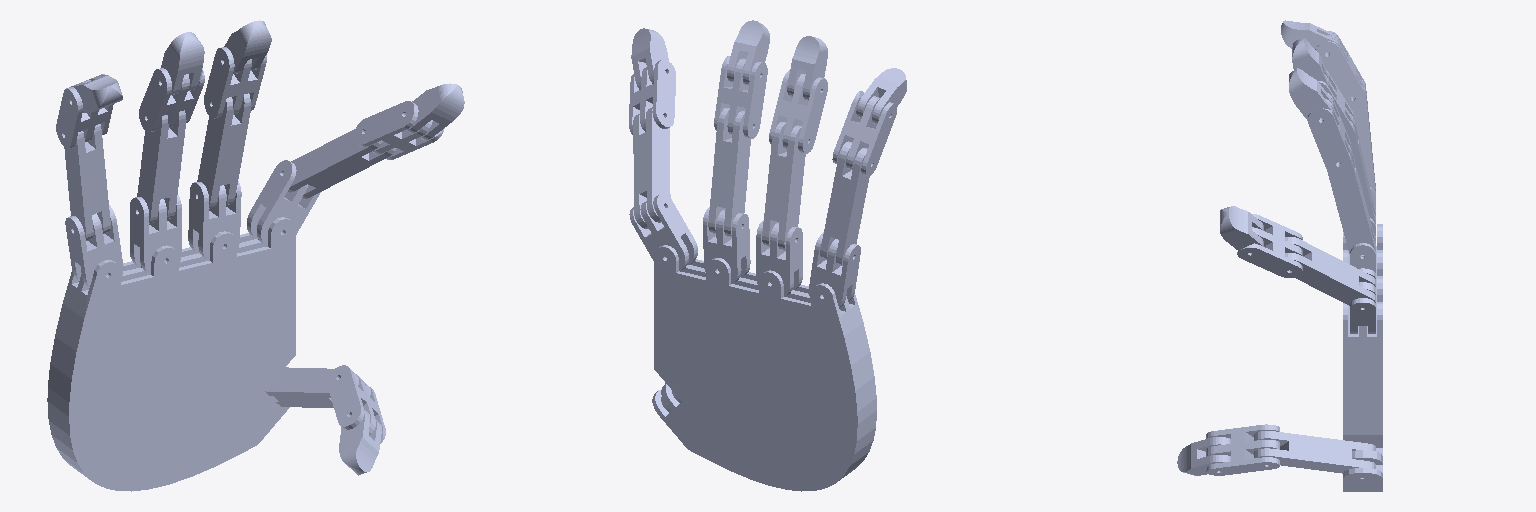
--- What the picture shows (computed from the rendered views, not written in the file) ---
The picture shows the robot from 3 angles, left to right: view 1: azimuth 30°, elevation 25°; view 2: azimuth 150°, elevation 25°; view 3: azimuth 270°, elevation 25°; orthographic projection.
Robot: Assemblage1 — 20 links, 19 joints (19 revolute); root link body; default pose: every joint at zero.
Visible links, largest first — view 1: body, BM, BR, BP, BI, MoI, MI, MoM, MoR, MM, MoP, MR (+8 smaller); view 2: body, BM, BR, BP, BI, MP, MM, MR, MoI, MI, MoM, MoR (+5 smaller); view 3: body, BT, BI, MT, BM, MI, MM, MP, EI, EM, ET, MoI (+6 smaller).
Link boxes in pixels (x1,y1,x2,y2): body: (47, 216, 295, 491); BM: (197, 93, 251, 208); BR: (137, 110, 186, 223); BP: (64, 124, 110, 240); BI: (287, 129, 396, 199); MoI: (247, 160, 320, 246); MI: (354, 101, 444, 159); MoM: (188, 180, 241, 260); MoR: (130, 195, 181, 274); MM: (204, 47, 266, 118); MoP: (65, 205, 123, 287); MR: (139, 68, 204, 131); body: (652, 245, 876, 491); BM: (708, 108, 750, 236); BR: (762, 122, 805, 250); BP: (820, 141, 869, 265); BI: (633, 107, 670, 228); MP: (832, 91, 896, 176); MM: (714, 56, 767, 138); MR: (769, 70, 827, 153); MoI: (629, 194, 697, 271); MI: (629, 59, 675, 134); MoM: (703, 207, 750, 283); MoR: (756, 220, 802, 296); body: (1343, 224, 1382, 491); BT: (1254, 431, 1375, 473); BI: (1285, 237, 1375, 305); MT: (1206, 424, 1279, 475); BM: (1327, 145, 1375, 256); MI: (1237, 214, 1302, 277); MM: (1308, 93, 1351, 175); MP: (1315, 31, 1365, 110); EI: (1220, 206, 1263, 250); EM: (1289, 68, 1333, 120); ET: (1177, 437, 1230, 475); MoI: (1350, 268, 1375, 333).
Bounding box of the posed robot: 0.1364 × 0.0782 × 0.1797 m (x, y, z).
Meshes: 20 distinct files referenced, 20 mesh visuals loaded (20 binary STL).

The robot description file, URDF, robot "Assemblage1":
<?xml version="1.0" encoding="utf-8"?>
<!-- This URDF was automatically created by SolidWorks to URDF Exporter! Originally created by Stephen Brawner ([email redacted]) 
     Commit Version: 1.6.0-4-g7f85cfe  Build Version: 1.6.7995.38578
     For more information, please see http://wiki.ros.org/sw_urdf_exporter -->
<robot
  name="Assemblage1">
  <link
    name="body">
    <inertial>
      <origin
        xyz="-0.0317780024555155 -0.0416290302039092 -4.84322725841584E-09"
        rpy="0 0 0" />
      <mass
        value="0.099913253768249" />
      <inertia
        ixx="5.26894904194742E-05"
        ixy="-4.91617233346469E-06"
        ixz="-2.12615653369078E-11"
        iyy="6.1865203895909E-05"
        iyz="-3.44716620593123E-11"
        izz="0.000110769106983496" />
    </inertial>
    <visual>
      <origin
        xyz="0 0 0"
        rpy="0 0 0" />
      <geometry>
        <mesh
          filename="package://Assemblage1/meshes/body.STL" />
      </geometry>
      <material
        name="">
        <color
          rgba="0.792156862745098 0.819607843137255 0.933333333333333 1" />
      </material>
    </visual>
    <collision>
      <origin
        xyz="0 0 0"
        rpy="0 0 0" />
      <geometry>
        <mesh
          filename="package://Assemblage1/meshes/body.STL" />
      </geometry>
    </collision>
  </link>
  <link
    name="MoP">
    <inertial>
      <origin
        xyz="-0.00293220937857835 0.00632546796877385 -1.45520032557199E-17"
        rpy="0 0 0" />
      <mass
        value="0.00255919241298572" />
      <inertia
        ixx="1.46637612238249E-07"
        ixy="3.30027530868883E-08"
        ixz="4.36834348772607E-24"
        iyy="9.07415094954518E-08"
        iyz="-2.29638710034628E-23"
        izz="1.86963684362792E-07" />
    </inertial>
    <visual>
      <origin
        xyz="0 0 0"
        rpy="0 0 0" />
      <geometry>
        <mesh
          filename="package://Assemblage1/meshes/MoP.STL" />
      </geometry>
      <material
        name="">
        <color
          rgba="0.792156862745098 0.819607843137255 0.933333333333333 1" />
      </material>
    </visual>
    <collision>
      <origin
        xyz="0 0 0"
        rpy="0 0 0" />
      <geometry>
        <mesh
          filename="package://Assemblage1/meshes/MoP.STL" />
      </geometry>
    </collision>
  </link>
  <joint
    name="P0"
    type="revolute">
    <origin
      xyz="-0.061489 0 0.0010762"
      rpy="1.5708 0.28599 0" />
    <parent
      link="body" />
    <child
      link="MoP" />
    <axis
      xyz="0 0 1" />
    <limit
      lower="0"
      upper="0"
      effort="0"
      velocity="0" />
  </joint>
  <link
    name="BP">
    <inertial>
      <origin
        xyz="-0.0084113336029166 0.0181452326251401 -3.42607886505419E-17"
        rpy="0 0 0" />
      <mass
        value="0.0038735397861954" />
      <inertia
        ixx="5.28071050490407E-07"
        ixy="2.12422682141576E-07"
        ixz="-2.34092113352507E-22"
        iyy="1.68295002879297E-07"
        iyz="1.83634095986772E-22"
        izz="6.33161083366812E-07" />
    </inertial>
    <visual>
      <origin
        xyz="0 0 0"
        rpy="0 0 0" />
      <geometry>
        <mesh
          filename="package://Assemblage1/meshes/BP.STL" />
      </geometry>
      <material
        name="">
        <color
          rgba="0.792156862745098 0.819607843137255 0.933333333333333 1" />
      </material>
    </visual>
    <collision>
      <origin
        xyz="0 0 0"
        rpy="0 0 0" />
      <geometry>
        <mesh
          filename="package://Assemblage1/meshes/BP.STL" />
      </geometry>
    </collision>
  </link>
  <joint
    name="P1"
    type="revolute">
    <origin
      xyz="-0.0073599 0.015877 0"
      rpy="0.084794 0.03924 0.0016649" />
    <parent
      link="MoP" />
    <child
      link="BP" />
    <axis
      xyz="0.90726 0.42057 0" />
    <limit
      lower="0"
      upper="0"
      effort="0"
      velocity="0" />
  </joint>
  <link
    name="MP">
    <inertial>
      <origin
        xyz="-0.00420380391442909 0.00897896333031706 3.99820593299793E-11"
        rpy="0 0 0" />
      <mass
        value="0.00237109569304739" />
      <inertia
        ixx="1.28381625801957E-07"
        ixy="2.73818544101998E-08"
        ixz="1.47144251627205E-16"
        iyy="8.5271339251763E-08"
        iyz="-2.69810152705628E-16"
        izz="1.75566459338251E-07" />
    </inertial>
    <visual>
      <origin
        xyz="0 0 0"
        rpy="0 0 0" />
      <geometry>
        <mesh
          filename="package://Assemblage1/meshes/MP.STL" />
      </geometry>
      <material
        name="">
        <color
          rgba="0.792156862745098 0.819607843137255 0.933333333333333 1" />
      </material>
    </visual>
    <collision>
      <origin
        xyz="0 0 0"
        rpy="0 0 0" />
      <geometry>
        <mesh
          filename="package://Assemblage1/meshes/MP.STL" />
      </geometry>
    </collision>
  </link>
  <joint
    name="P2"
    type="revolute">
    <origin
      xyz="-0.016823 0.03629 0"
      rpy="0.37611 0.16865 0.032168" />
    <parent
      link="BP" />
    <child
      link="MP" />
    <axis
      xyz="0.90726 0.42057 0" />
    <limit
      lower="0"
      upper="0"
      effort="0"
      velocity="0" />
  </joint>
  <link
    name="EP">
    <inertial>
      <origin
        xyz="-0.00331864433873978 0.00715916547211324 0.000107037810905417"
        rpy="0 0 0" />
      <mass
        value="0.00158516331078646" />
      <inertia
        ixx="6.32795292840303E-08"
        ixy="1.69330066509074E-08"
        ixz="3.68775388961158E-10"
        iyy="3.45969358532547E-08"
        iyz="-7.94913043760575E-10"
        izz="7.6046113606227E-08" />
    </inertial>
    <visual>
      <origin
        xyz="0 0 0"
        rpy="0 0 0" />
      <geometry>
        <mesh
          filename="package://Assemblage1/meshes/EP.STL" />
      </geometry>
      <material
        name="">
        <color
          rgba="0.792156862745098 0.819607843137255 0.933333333333333 1" />
      </material>
    </visual>
    <collision>
      <origin
        xyz="0 0 0"
        rpy="0 0 0" />
      <geometry>
        <mesh
          filename="package://Assemblage1/meshes/EP.STL" />
      </geometry>
    </collision>
  </link>
  <joint
    name="P3"
    type="revolute">
    <origin
      xyz="-0.0084113 0.018145 0"
      rpy="0.58262 0.24973 0.075235" />
    <parent
      link="MP" />
    <child
      link="EP" />
    <axis
      xyz="0.90726 0.42057 0" />
    <limit
      lower="0"
      upper="0"
      effort="0"
      velocity="0" />
  </joint>
  <link
    name="MoR">
    <inertial>
      <origin
        xyz="-0.00293220937857833 0.00632546796877384 4.91378912611739E-17"
        rpy="0 0 0" />
      <mass
        value="0.00255919241298572" />
      <inertia
        ixx="1.46637612238249E-07"
        ixy="3.30027530868887E-08"
        ixz="1.99080074695055E-23"
        iyy="9.0741509495452E-08"
        iyz="1.46054870935857E-23"
        izz="1.86963684362793E-07" />
    </inertial>
    <visual>
      <origin
        xyz="0 0 0"
        rpy="0 0 0" />
      <geometry>
        <mesh
          filename="package://Assemblage1/meshes/MoR.STL" />
      </geometry>
      <material
        name="">
        <color
          rgba="0.792156862745098 0.819607843137255 0.933333333333333 1" />
      </material>
    </visual>
    <collision>
      <origin
        xyz="0 0 0"
        rpy="0 0 0" />
      <geometry>
        <mesh
          filename="package://Assemblage1/meshes/MoR.STL" />
      </geometry>
    </collision>
  </link>
  <joint
    name="R0"
    type="revolute">
    <origin
      xyz="-0.038156 0 0.0010762"
      rpy="1.5708 0.43367 0" />
    <parent
      link="body" />
    <child
      link="MoR" />
    <axis
      xyz="0 0 1" />
    <limit
      lower="0"
      upper="0"
      effort="0"
      velocity="0" />
  </joint>
  <link
    name="BR">
    <inertial>
      <origin
        xyz="-0.00841133360291669 0.01814523262514 -1.05818132034585E-16"
        rpy="0 0 0" />
      <mass
        value="0.0038735397861954" />
      <inertia
        ixx="5.28071050490406E-07"
        ixy="2.12422682141575E-07"
        ixz="1.19941188820189E-22"
        iyy="1.68295002879296E-07"
        iyz="5.93915679813074E-22"
        izz="6.33161083366809E-07" />
    </inertial>
    <visual>
      <origin
        xyz="0 0 0"
        rpy="0 0 0" />
      <geometry>
        <mesh
          filename="package://Assemblage1/meshes/BR.STL" />
      </geometry>
      <material
        name="">
        <color
          rgba="0.792156862745098 0.819607843137255 0.933333333333333 1" />
      </material>
    </visual>
    <collision>
      <origin
        xyz="0 0 0"
        rpy="0 0 0" />
      <geometry>
        <mesh
          filename="package://Assemblage1/meshes/BR.STL" />
      </geometry>
    </collision>
  </link>
  <joint
    name="R1"
    type="revolute">
    <origin
      xyz="-0.0073599 0.015877 0"
      rpy="0.18212 0.083759 0.0076525" />
    <parent
      link="MoR" />
    <child
      link="BR" />
    <axis
      xyz="0.90726 0.42057 0" />
    <limit
      lower="0"
      upper="0"
      effort="0"
      velocity="0" />
  </joint>
  <link
    name="MR">
    <inertial>
      <origin
        xyz="-0.00511106554568592 0.00855839665017134 3.9982080146661E-11"
        rpy="0 0 0" />
      <mass
        value="0.00237109569304739" />
      <inertia
        ixx="1.28381625801953E-07"
        ixy="2.73818544102003E-08"
        ixz="1.47144871185484E-16"
        iyy="8.5271339251762E-08"
        iyz="-2.69810043517787E-16"
        izz="1.75566459338247E-07" />
    </inertial>
    <visual>
      <origin
        xyz="0 0 0"
        rpy="0 0 0" />
      <geometry>
        <mesh
          filename="package://Assemblage1/meshes/MR.STL" />
      </geometry>
      <material
        name="">
        <color
          rgba="0.792156862745098 0.819607843137255 0.933333333333333 1" />
      </material>
    </visual>
    <collision>
      <origin
        xyz="0 0 0"
        rpy="0 0 0" />
      <geometry>
        <mesh
          filename="package://Assemblage1/meshes/MR.STL" />
      </geometry>
    </collision>
  </link>
  <joint
    name="R2"
    type="revolute">
    <origin
      xyz="-0.016823 0.03629 0"
      rpy="0.28269 0.12859 0.018322" />
    <parent
      link="BR" />
    <child
      link="MR" />
    <axis
      xyz="0.90726 0.42057 0" />
    <limit
      lower="0"
      upper="0"
      effort="0"
      velocity="0" />
  </joint>
  <link
    name="ER">
    <inertial>
      <origin
        xyz="-0.00422591555438051 0.00673860644655273 0.000107034349140913"
        rpy="0 0 0" />
      <mass
        value="0.00158516503814541" />
      <inertia
        ixx="6.32794906351526E-08"
        ixy="1.69331692425388E-08"
        ixz="3.68762244765979E-10"
        iyy="3.45969451339538E-08"
        iyz="-7.94871995175647E-10"
        izz="7.60462532418065E-08" />
    </inertial>
    <visual>
      <origin
        xyz="0 0 0"
        rpy="0 0 0" />
      <geometry>
        <mesh
          filename="package://Assemblage1/meshes/ER.STL" />
      </geometry>
      <material
        name="">
        <color
          rgba="0.792156862745098 0.819607843137255 0.933333333333333 1" />
      </material>
    </visual>
    <collision>
      <origin
        xyz="0 0 0"
        rpy="0 0 0" />
      <geometry>
        <mesh
          filename="package://Assemblage1/meshes/ER.STL" />
      </geometry>
    </collision>
  </link>
  <joint
    name="R3"
    type="revolute">
    <origin
      xyz="-0.0084113 0.018145 0"
      rpy="-0.13162 -0.060764 0.004006" />
    <parent
      link="MR" />
    <child
      link="ER" />
    <axis
      xyz="0.90726 0.42057 0" />
    <limit
      lower="0"
      upper="0"
      effort="0"
      velocity="0" />
  </joint>
  <link
    name="MoM">
    <inertial>
      <origin
        xyz="-0.00293220937857834 0.00632546796877383 -1.45472119467669E-17"
        rpy="0 0 0" />
      <mass
        value="0.00255919241298571" />
      <inertia
        ixx="1.46637612238249E-07"
        ixy="3.30027530868881E-08"
        ixz="1.07828210437865E-23"
        iyy="9.07415094954515E-08"
        iyz="4.18519976445112E-23"
        izz="1.86963684362793E-07" />
    </inertial>
    <visual>
      <origin
        xyz="0 0 0"
        rpy="0 0 0" />
      <geometry>
        <mesh
          filename="package://Assemblage1/meshes/MoM.STL" />
      </geometry>
      <material
        name="">
        <color
          rgba="0.792156862745098 0.819607843137255 0.933333333333333 1" />
      </material>
    </visual>
    <collision>
      <origin
        xyz="0 0 0"
        rpy="0 0 0" />
      <geometry>
        <mesh
          filename="package://Assemblage1/meshes/MoM.STL" />
      </geometry>
    </collision>
  </link>
  <joint
    name="M0"
    type="revolute">
    <origin
      xyz="-0.014823 0 0.0010762"
      rpy="1.5708 0.46822 0" />
    <parent
      link="body" />
    <child
      link="MoM" />
    <axis
      xyz="0 0 1" />
    <limit
      lower="0"
      upper="0"
      effort="0"
      velocity="0" />
  </joint>
  <link
    name="BM">
    <inertial>
      <origin
        xyz="-0.00841133360291656 0.0181452326251401 -3.03576608295941E-17"
        rpy="0 0 0" />
      <mass
        value="0.00387353978619539" />
      <inertia
        ixx="5.28071050490406E-07"
        ixy="2.12422682141575E-07"
        ixz="-5.24018918052343E-22"
        iyy="1.68295002879296E-07"
        iyz="2.61389073566757E-22"
        izz="6.33161083366809E-07" />
    </inertial>
    <visual>
      <origin
        xyz="0 0 0"
        rpy="0 0 0" />
      <geometry>
        <mesh
          filename="package://Assemblage1/meshes/BM.STL" />
      </geometry>
      <material
        name="">
        <color
          rgba="0.792156862745098 0.819607843137255 0.933333333333333 1" />
      </material>
    </visual>
    <collision>
      <origin
        xyz="0 0 0"
        rpy="0 0 0" />
      <geometry>
        <mesh
          filename="package://Assemblage1/meshes/BM.STL" />
      </geometry>
    </collision>
  </link>
  <joint
    name="M1"
    type="revolute">
    <origin
      xyz="-0.0073599 0.015877 0"
      rpy="0.21346 0.097886 0.010495" />
    <parent
      link="MoM" />
    <child
      link="BM" />
    <axis
      xyz="0.90726 0.42057 0" />
    <limit
      lower="0"
      upper="0"
      effort="0"
      velocity="0" />
  </joint>
  <link
    name="MM">
    <inertial>
      <origin
        xyz="-0.00511106554568629 0.00855839665017128 3.99823091301599E-11"
        rpy="0 0 0" />
      <mass
        value="0.0023710956930474" />
      <inertia
        ixx="1.28381625801959E-07"
        ixy="2.73818544102015E-08"
        ixz="1.47144135821919E-16"
        iyy="8.52713392517634E-08"
        iyz="-2.69809805289771E-16"
        izz="1.75566459338253E-07" />
    </inertial>
    <visual>
      <origin
        xyz="0 0 0"
        rpy="0 0 0" />
      <geometry>
        <mesh
          filename="package://Assemblage1/meshes/MM.STL" />
      </geometry>
      <material
        name="">
        <color
          rgba="0.792156862745098 0.819607843137255 0.933333333333333 1" />
      </material>
    </visual>
    <collision>
      <origin
        xyz="0 0 0"
        rpy="0 0 0" />
      <geometry>
        <mesh
          filename="package://Assemblage1/meshes/MM.STL" />
      </geometry>
    </collision>
  </link>
  <joint
    name="M2"
    type="revolute">
    <origin
      xyz="-0.016823 0.03629 0"
      rpy="0.095455 0.044153 0.0021092" />
    <parent
      link="BM" />
    <child
      link="MM" />
    <axis
      xyz="0.90726 0.42057 0" />
    <limit
      lower="0"
      upper="0"
      effort="0"
      velocity="0" />
  </joint>
  <link
    name="EM">
    <inertial>
      <origin
        xyz="-0.00422591227853702 0.00673860339802749 0.000107039186693112"
        rpy="0 0 0" />
      <mass
        value="0.0015851647154223" />
      <inertia
        ixx="6.32794759861742E-08"
        ixy="1.69330882930686E-08"
        ixz="3.68776959871066E-10"
        iyy="3.45969592327741E-08"
        iyz="-7.94930068509272E-10"
        izz="7.60461994645335E-08" />
    </inertial>
    <visual>
      <origin
        xyz="0 0 0"
        rpy="0 0 0" />
      <geometry>
        <mesh
          filename="package://Assemblage1/meshes/EM.STL" />
      </geometry>
      <material
        name="">
        <color
          rgba="0.792156862745098 0.819607843137255 0.933333333333333 1" />
      </material>
    </visual>
    <collision>
      <origin
        xyz="0 0 0"
        rpy="0 0 0" />
      <geometry>
        <mesh
          filename="package://Assemblage1/meshes/EM.STL" />
      </geometry>
    </collision>
  </link>
  <joint
    name="M3"
    type="revolute">
    <origin
      xyz="-0.0084113 0.018145 0"
      rpy="0.24136 0.11035 0.013395" />
    <parent
      link="MM" />
    <child
      link="EM" />
    <axis
      xyz="0.90726 0.42057 0" />
    <limit
      lower="0"
      upper="0"
      effort="0"
      velocity="0" />
  </joint>
  <link
    name="MoI">
    <inertial>
      <origin
        xyz="-0.00460821527933892 0.00557234453237535 1.31025774198672E-16"
        rpy="0 0 0" />
      <mass
        value="0.00255919241298572" />
      <inertia
        ixx="1.46637612238251E-07"
        ixy="3.30027530868886E-08"
        ixz="5.61711877417609E-23"
        iyy="9.07415094954518E-08"
        iyz="-2.02637300472187E-22"
        izz="1.86963684362794E-07" />
    </inertial>
    <visual>
      <origin
        xyz="0 0 0"
        rpy="0 0 0" />
      <geometry>
        <mesh
          filename="package://Assemblage1/meshes/MoI.STL" />
      </geometry>
      <material
        name="">
        <color
          rgba="0.792156862745098 0.819607843137255 0.933333333333333 1" />
      </material>
    </visual>
    <collision>
      <origin
        xyz="0 0 0"
        rpy="0 0 0" />
      <geometry>
        <mesh
          filename="package://Assemblage1/meshes/MoI.STL" />
      </geometry>
    </collision>
  </link>
  <joint
    name="I0"
    type="revolute">
    <origin
      xyz="0.01 0 0"
      rpy="1.5708 1.0481 0" />
    <parent
      link="body" />
    <child
      link="MoI" />
    <axis
      xyz="0 0 1" />
    <limit
      lower="0"
      upper="0"
      effort="0"
      velocity="0" />
  </joint>
  <link
    name="BI">
    <inertial>
      <origin
        xyz="-0.010078258526922 0.0173725193777277 1.04083408558608E-16"
        rpy="0 0 0" />
      <mass
        value="0.00387353978619539" />
      <inertia
        ixx="5.28071050490401E-07"
        ixy="2.12422682141575E-07"
        ixz="1.81979734761666E-23"
        iyy="1.68295002879296E-07"
        iyz="-3.63959469523332E-23"
        izz="6.33161083366805E-07" />
    </inertial>
    <visual>
      <origin
        xyz="0 0 0"
        rpy="0 0 0" />
      <geometry>
        <mesh
          filename="package://Assemblage1/meshes/BI.STL" />
      </geometry>
      <material
        name="">
        <color
          rgba="0.792156862745098 0.819607843137255 0.933333333333333 1" />
      </material>
    </visual>
    <collision>
      <origin
        xyz="0 0 0"
        rpy="0 0 0" />
      <geometry>
        <mesh
          filename="package://Assemblage1/meshes/BI.STL" />
      </geometry>
    </collision>
  </link>
  <joint
    name="I1"
    type="revolute">
    <origin
      xyz="-0.007369 0.015897 0"
      rpy="0.72428 0.298 0.11362" />
    <parent
      link="MoI" />
    <child
      link="BI" />
    <axis
      xyz="0.90726 0.42057 0" />
    <limit
      lower="0"
      upper="0"
      effort="0"
      velocity="0" />
  </joint>
  <link
    name="MI">
    <inertial>
      <origin
        xyz="-0.0058707288384357 0.00820625008290406 3.99820489216385E-11"
        rpy="0 0 0" />
      <mass
        value="0.00237109569304739" />
      <inertia
        ixx="1.28381625801954E-07"
        ixy="2.7381854410201E-08"
        ixz="1.47143396322452E-16"
        iyy="8.52713392517623E-08"
        iyz="-2.69810824376286E-16"
        izz="1.75566459338248E-07" />
    </inertial>
    <visual>
      <origin
        xyz="0 0 0"
        rpy="0 0 0" />
      <geometry>
        <mesh
          filename="package://Assemblage1/meshes/MI.STL" />
      </geometry>
      <material
        name="">
        <color
          rgba="0.792156862745098 0.819607843137255 0.933333333333333 1" />
      </material>
    </visual>
    <collision>
      <origin
        xyz="0 0 0"
        rpy="0 0 0" />
      <geometry>
        <mesh
          filename="package://Assemblage1/meshes/MI.STL" />
      </geometry>
    </collision>
  </link>
  <joint
    name="I2"
    type="revolute">
    <origin
      xyz="-0.016823 0.03629 0"
      rpy="0.059621 0.027614 0.00082348" />
    <parent
      link="BI" />
    <child
      link="MI" />
    <axis
      xyz="0.90726 0.42057 0" />
    <limit
      lower="0"
      upper="0"
      effort="0"
      velocity="0" />
  </joint>
  <link
    name="EI">
    <inertial>
      <origin
        xyz="-0.00498556201149572 0.00638644900259262 0.000107043437449848"
        rpy="0 0 0" />
      <mass
        value="0.0015851620791872" />
      <inertia
        ixx="6.32795620506267E-08"
        ixy="1.69328924060062E-08"
        ixz="3.68817345589765E-10"
        iyy="3.45968627932674E-08"
        iyz="-7.94979713210856E-10"
        izz="7.60460440825033E-08" />
    </inertial>
    <visual>
      <origin
        xyz="0 0 0"
        rpy="0 0 0" />
      <geometry>
        <mesh
          filename="package://Assemblage1/meshes/EI.STL" />
      </geometry>
      <material
        name="">
        <color
          rgba="0.792156862745098 0.819607843137255 0.933333333333333 1" />
      </material>
    </visual>
    <collision>
      <origin
        xyz="0 0 0"
        rpy="0 0 0" />
      <geometry>
        <mesh
          filename="package://Assemblage1/meshes/EI.STL" />
      </geometry>
    </collision>
  </link>
  <joint
    name="I3"
    type="revolute">
    <origin
      xyz="-0.0084113 0.018145 0"
      rpy="-0.26146 -0.11926 0.015698" />
    <parent
      link="MI" />
    <child
      link="EI" />
    <axis
      xyz="0.90726 0.42057 0" />
    <limit
      lower="0"
      upper="0"
      effort="0"
      velocity="0" />
  </joint>
  <link
    name="BT">
    <inertial>
      <origin
        xyz="-0.00497518079694806 0.0197380822820551 -1.73472347597681E-16"
        rpy="0 0 0" />
      <mass
        value="0.00387353978619539" />
      <inertia
        ixx="5.28071050490405E-07"
        ixy="2.12422682141574E-07"
        ixz="-2.60561892954204E-22"
        iyy="1.68295002879295E-07"
        iyz="7.80858498250058E-22"
        izz="6.33161083366809E-07" />
    </inertial>
    <visual>
      <origin
        xyz="0 0 0"
        rpy="0 0 0" />
      <geometry>
        <mesh
          filename="package://Assemblage1/meshes/BT.STL" />
      </geometry>
      <material
        name="">
        <color
          rgba="0.792156862745098 0.819607843137255 0.933333333333333 1" />
      </material>
    </visual>
    <collision>
      <origin
        xyz="0 0 0"
        rpy="0 0 0" />
      <geometry>
        <mesh
          filename="package://Assemblage1/meshes/BT.STL" />
      </geometry>
    </collision>
  </link>
  <joint
    name="T0"
    type="revolute">
    <origin
      xyz="0.0041266 0 -0.057752"
      rpy="-3.0339 0.91713 0.68118" />
    <parent
      link="body" />
    <child
      link="BT" />
    <axis
      xyz="0.90726 0.42057 0" />
    <limit
      lower="0"
      upper="0"
      effort="0"
      velocity="0" />
  </joint>
  <link
    name="MT">
    <inertial>
      <origin
        xyz="-0.00076765110846054 0.0105718129872322 3.99820680035967E-11"
        rpy="0 0 0" />
      <mass
        value="0.00237109569304739" />
      <inertia
        ixx="1.28381625801955E-07"
        ixy="2.73818544102012E-08"
        ixz="1.4714439390227E-16"
        iyy="8.52713392517626E-08"
        iyz="-2.69809603457702E-16"
        izz="1.75566459338249E-07" />
    </inertial>
    <visual>
      <origin
        xyz="0 0 0"
        rpy="0 0 0" />
      <geometry>
        <mesh
          filename="package://Assemblage1/meshes/MT.STL" />
      </geometry>
      <material
        name="">
        <color
          rgba="0.792156862745098 0.819607843137255 0.933333333333333 1" />
      </material>
    </visual>
    <collision>
      <origin
        xyz="0 0 0"
        rpy="0 0 0" />
      <geometry>
        <mesh
          filename="package://Assemblage1/meshes/MT.STL" />
      </geometry>
    </collision>
  </link>
  <joint
    name="T1"
    type="revolute">
    <origin
      xyz="-0.016823 0.03629 0"
      rpy="0.80088 0.32129 0.13697" />
    <parent
      link="BT" />
    <child
      link="MT" />
    <axis
      xyz="0.90726 0.42057 0" />
    <limit
      lower="0"
      upper="0"
      effort="0"
      velocity="0" />
  </joint>
  <link
    name="ET">
    <inertial>
      <origin
        xyz="0.000117504898841745 0.00875201885315917 0.000107040189913116"
        rpy="0 0 0" />
      <mass
        value="0.00158516415534188" />
      <inertia
        ixx="6.32794969377475E-08"
        ixy="1.69330551106121E-08"
        ixz="3.68792905600493E-10"
        iyy="3.45969156376173E-08"
        iyz="-7.94942099343556E-10"
        izz="7.60461773859394E-08" />
    </inertial>
    <visual>
      <origin
        xyz="0 0 0"
        rpy="0 0 0" />
      <geometry>
        <mesh
          filename="package://Assemblage1/meshes/ET.STL" />
      </geometry>
      <material
        name="">
        <color
          rgba="0.792156862745098 0.819607843137255 0.933333333333333 1" />
      </material>
    </visual>
    <collision>
      <origin
        xyz="0 0 0"
        rpy="0 0 0" />
      <geometry>
        <mesh
          filename="package://Assemblage1/meshes/ET.STL" />
      </geometry>
    </collision>
  </link>
  <joint
    name="T2"
    type="revolute">
    <origin
      xyz="-0.0084113 0.018145 0"
      rpy="0.32428 0.14664 0.024029" />
    <parent
      link="MT" />
    <child
      link="ET" />
    <axis
      xyz="0.90726 0.42057 0" />
    <limit
      lower="0"
      upper="0"
      effort="0"
      velocity="0" />
  </joint>
</robot>
